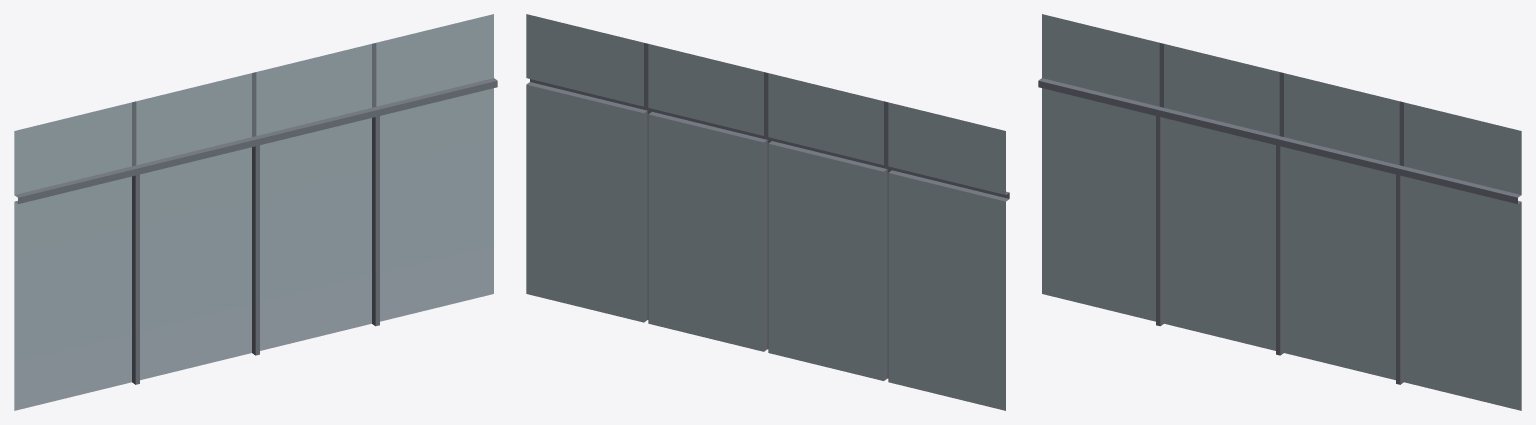
The model's file is DoorsGround.fbx.
The picture shows the model from 3 angles, left to right: view 1: azimuth 30°, elevation 25°; view 2: azimuth 150°, elevation 25°; view 3: azimuth 330°, elevation 25°; orthographic projection.
Parts seen in each view (by area): view 1: Cube.199; view 2: Cube.199; view 3: Cube.199.
Boxes of the visible parts, box(x1,y1,x2,y2) form: Cube.199: box(14, 14, 497, 410); Cube.199: box(526, 14, 1009, 410); Cube.199: box(1038, 14, 1521, 410).
Size of the model in its own units: 12.94 by 0.1693 by 7.21.
